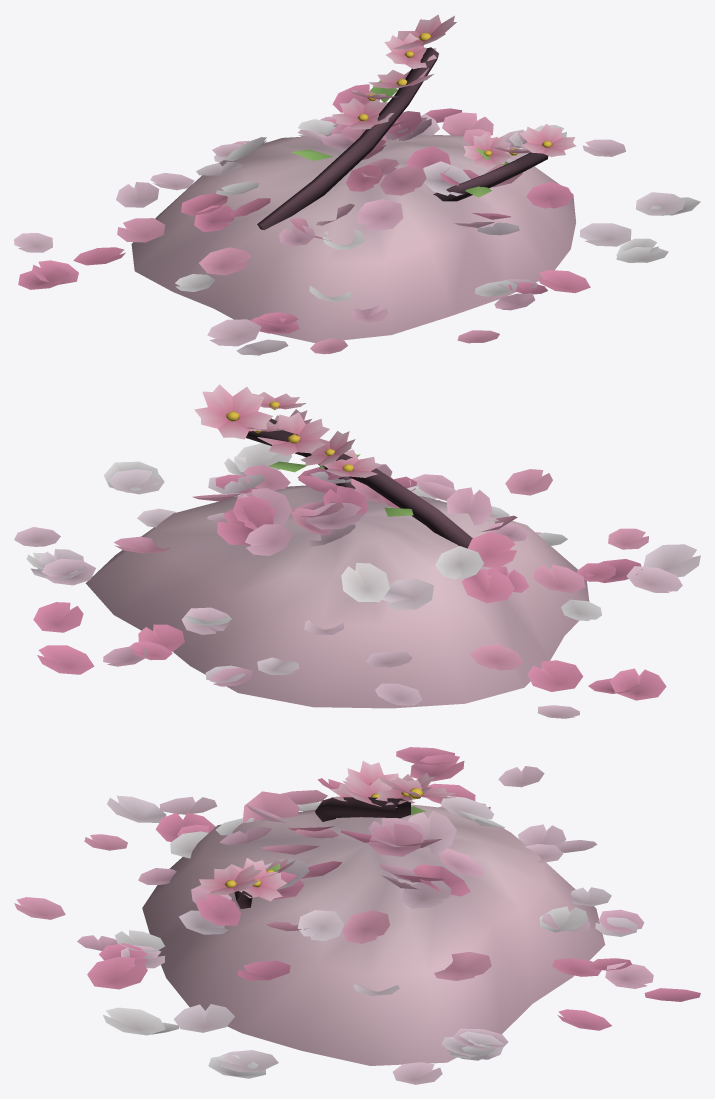
File: prop-scav-petalDrift-full.glb
3 views of the same model, one above another, from view 1: azimuth 30°, elevation 25°; view 2: azimuth 150°, elevation 25°; view 3: azimuth 270°, elevation 25° (orthographic). The views are drawn at different scales.
Visible parts, largest first — view 1: body; view 2: body; view 3: body.
Boxes of the visible parts, box(x1,y1,x2,y2) form: body: box(14, 14, 700, 355); body: box(14, 384, 700, 718); body: box(14, 747, 700, 1084).
Size of the model in its own units: 1.9 by 0.5803 by 1.64.
